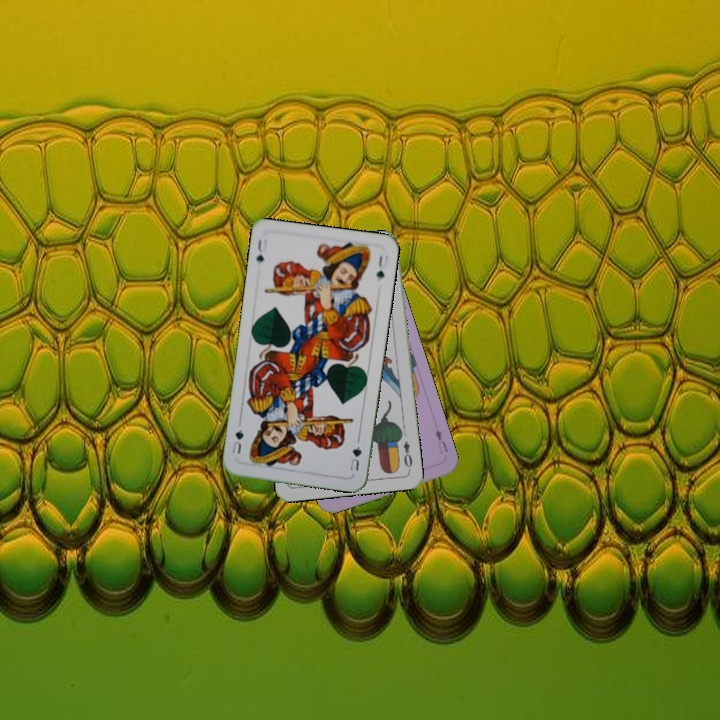EO: (399, 437, 415, 473)
EU: (431, 425, 450, 456)
GU: (346, 436, 364, 473), (252, 235, 270, 265)
